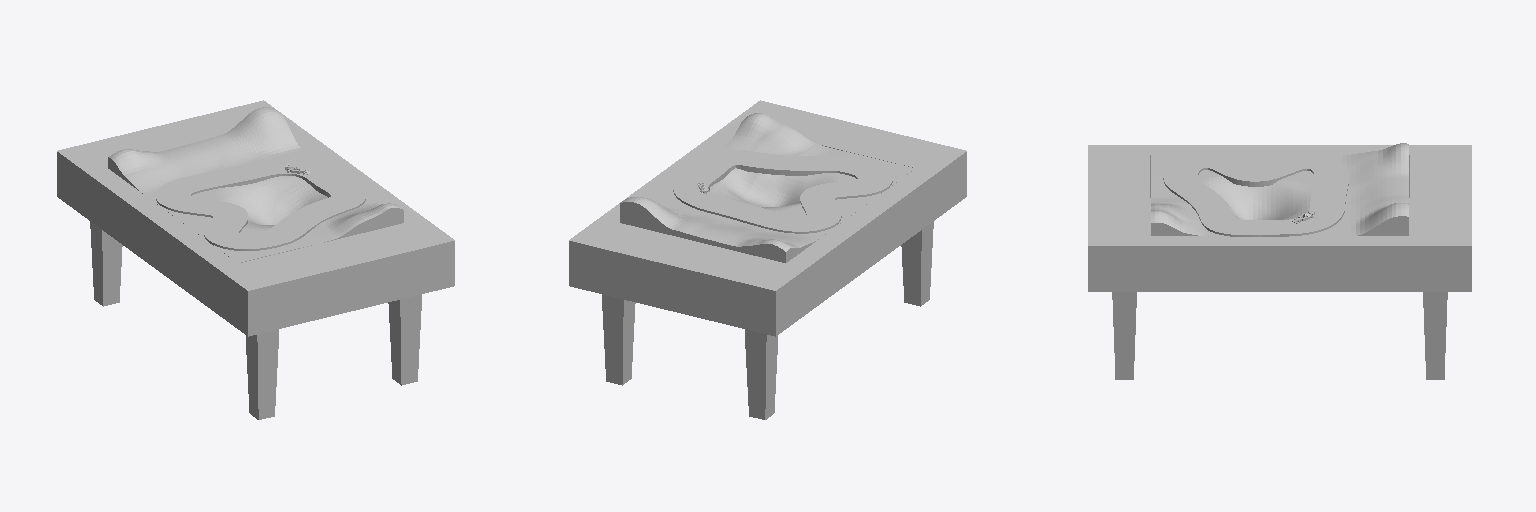
File: NewestTisch16.obj
The picture shows the model from 3 angles: view 1: azimuth 30°, elevation 25°; view 2: azimuth 150°, elevation 25°; view 3: azimuth 270°, elevation 25°; orthographic projection.
Parts seen in each view (by area): view 1: Tischplatte_wood_table_001, Landschaft_aerial_grass_rock, off, Bein1_wood_table_001, Bein4_wood_table_001.003, Bein3_wood_table_001.002; view 2: Tischplatte_wood_table_001, Landschaft_aerial_grass_rock, off, Bein2_wood_table_001.001, Bein3_wood_table_001.002, Bein4_wood_table_001.003; view 3: Tischplatte_wood_table_001, Landschaft_aerial_grass_rock, off, Bein1_wood_table_001, Bein2_wood_table_001.001.
Part boxes in pixels (left/top/right/bottom): Tischplatte_wood_table_001: left=57, top=100, right=454, bottom=336; Landschaft_aerial_grass_rock: left=108, top=107, right=403, bottom=262; off: left=156, top=159, right=365, bottom=250; Bein1_wood_table_001: left=388, top=294, right=421, bottom=385; Bein4_wood_table_001.003: left=246, top=329, right=278, bottom=419; Bein3_wood_table_001.002: left=90, top=221, right=122, bottom=306; Tischplatte_wood_table_001: left=569, top=100, right=966, bottom=336; Landschaft_aerial_grass_rock: left=620, top=113, right=915, bottom=262; off: left=673, top=150, right=892, bottom=233; Bein2_wood_table_001.001: left=602, top=294, right=635, bottom=385; Bein3_wood_table_001.002: left=745, top=329, right=777, bottom=419; Bein4_wood_table_001.003: left=901, top=221, right=933, bottom=306; Tischplatte_wood_table_001: left=1088, top=145, right=1471, bottom=291; Landschaft_aerial_grass_rock: left=1151, top=143, right=1408, bottom=235; off: left=1163, top=153, right=1348, bottom=236; Bein1_wood_table_001: left=1112, top=292, right=1136, bottom=379; Bein2_wood_table_001.001: left=1423, top=292, right=1447, bottom=379.
Size of the model in its own units: 5 by 3.91 by 8.